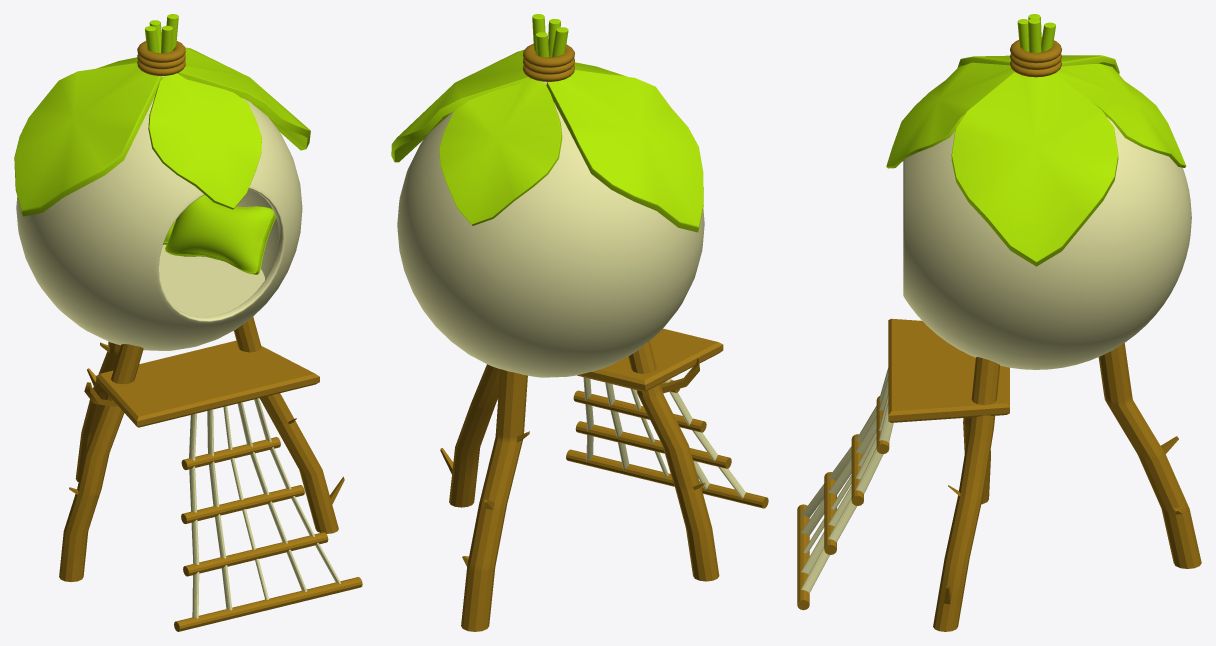
The model's file is Froghouse2.fbx.
The picture shows the model from 3 angles, left to right: view 1: azimuth 30°, elevation 25°; view 2: azimuth 150°, elevation 25°; view 3: azimuth 270°, elevation 25°; orthographic projection. The views are drawn at different scales.
Parts seen in each view (by area): view 1: Froghouse; view 2: Froghouse; view 3: Froghouse.
Part boxes in pixels (<box>): Froghouse: <box>14,14,362,631</box>; Froghouse: <box>391,14,768,631</box>; Froghouse: <box>797,14,1201,631</box>.
Size of the model in its own units: 2.87 by 4.98 by 3.32.
